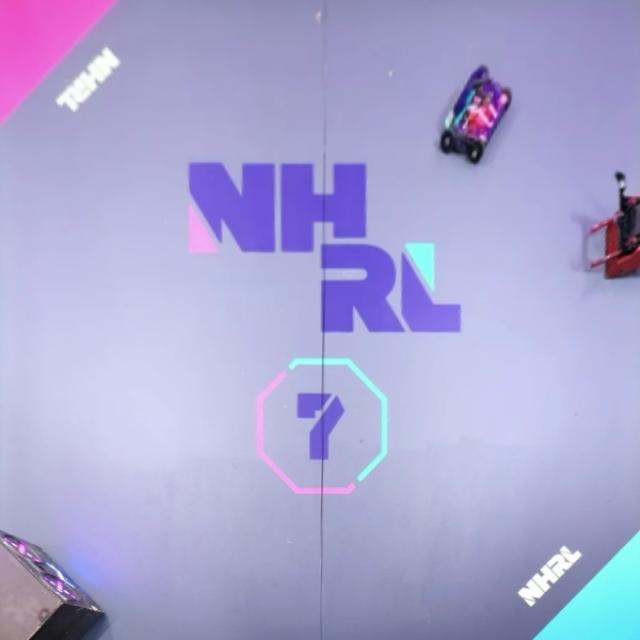housebot: (0, 528, 108, 640)
robot: (440, 66, 513, 166), (586, 171, 640, 281)
